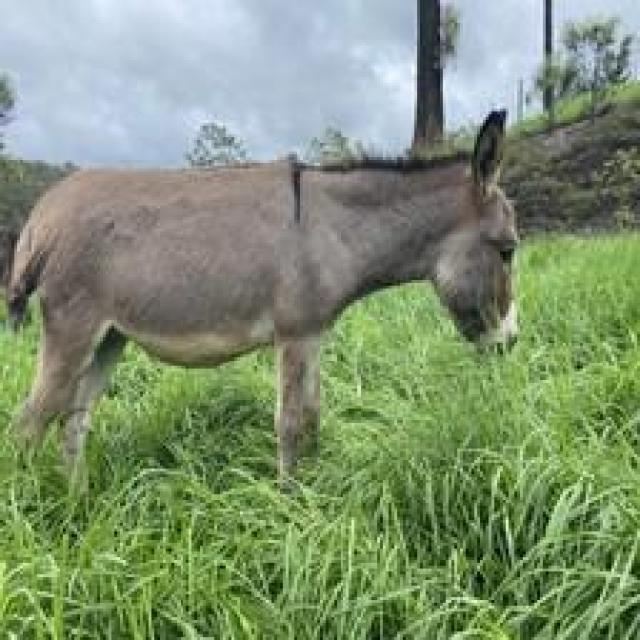Donkey: (0, 106, 520, 500)
